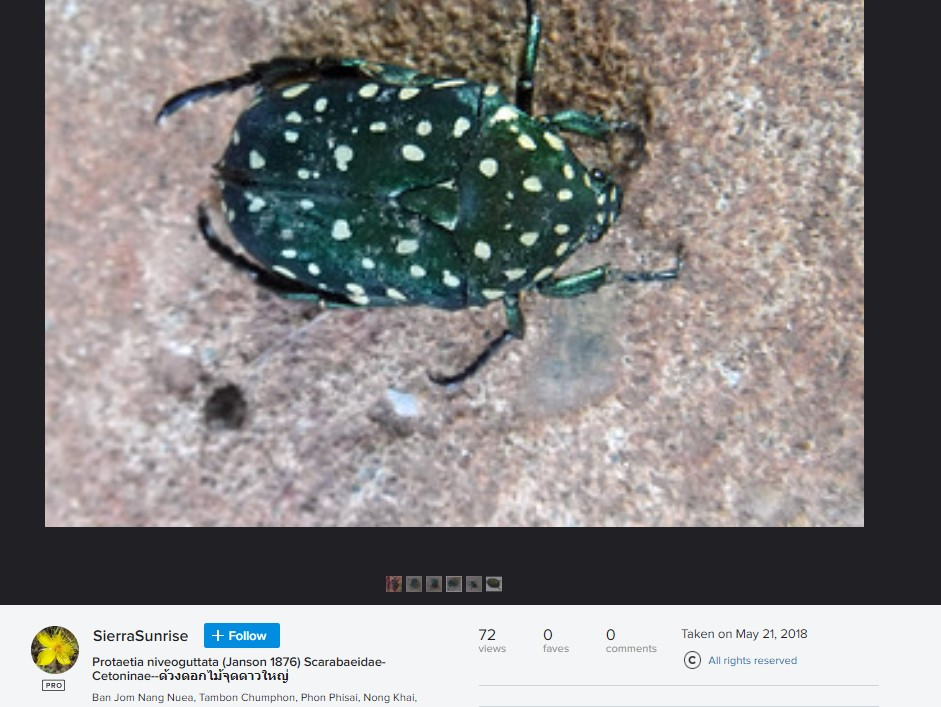Protaetia_niveoguttata: (145, 21, 695, 386)
